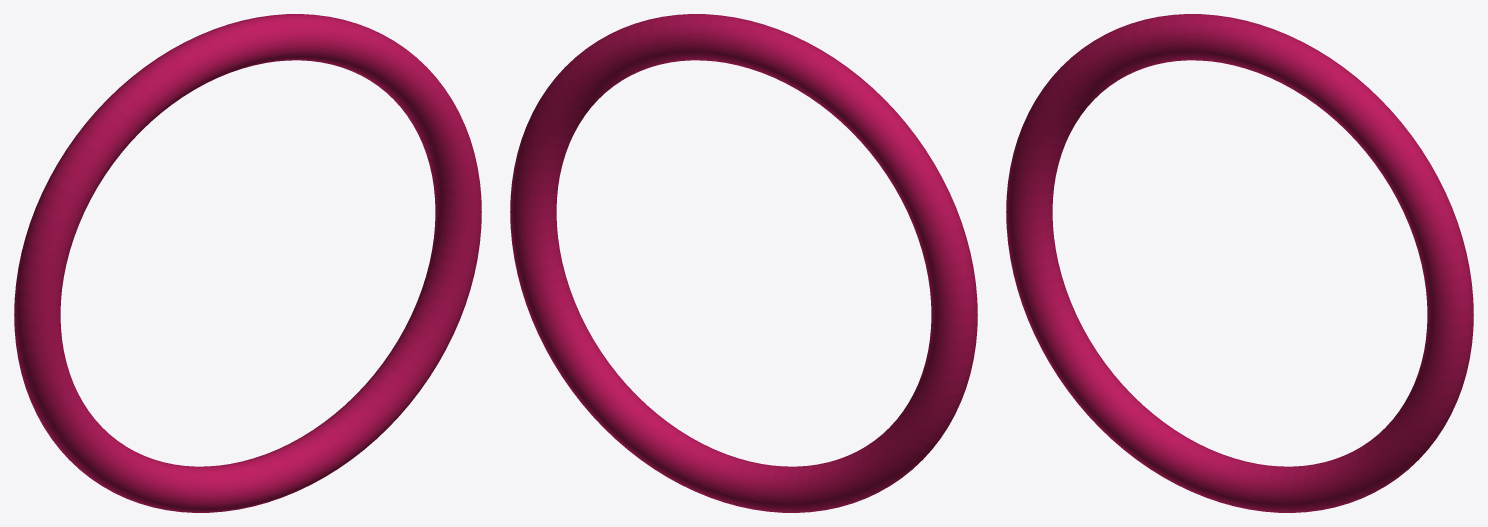
The picture shows the model from 3 angles, left to right: view 1: azimuth 30°, elevation 25°; view 2: azimuth 150°, elevation 25°; view 3: azimuth 330°, elevation 25°; orthographic projection.
Visible parts, largest first — view 1: world; view 2: world; view 3: world.
Boxes of the visible parts, x1,y1,x2,y2 form: world: (14, 14, 481, 512); world: (510, 14, 977, 512); world: (1006, 14, 1473, 512).
Size of the model in its own units: 32.13 by 32.13 by 2.79.
